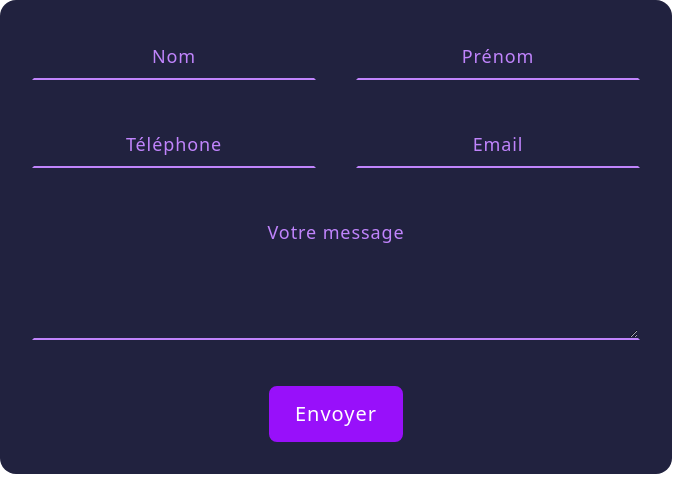
ContactForm › affiche une erreur sur chaque champ requis lors d'une soumission vide
The width and height of the screenshot is (689, 491).
Click the button "Envoyer" at (336, 414), box [269,386,403,442]
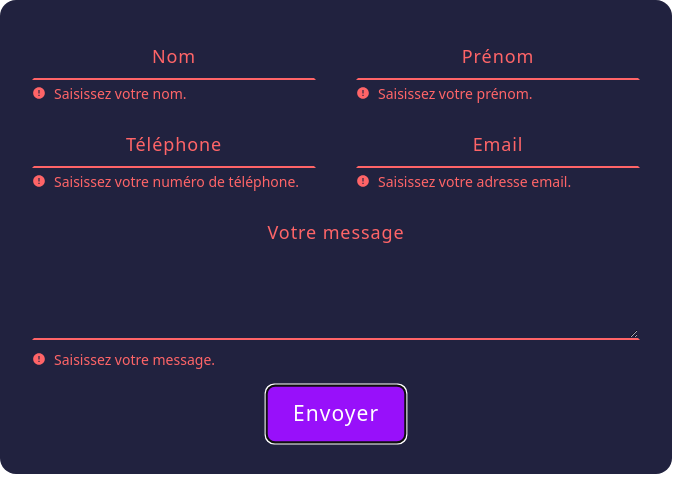
expect the text "Saisissez votre nom." is shown: met, box [54,84,186,104]
expect the text "Saisissez votre prénom." is shown: met, box [378,84,532,104]
expect the text "Saisissez votre numéro de téléphone." is shown: met, box [54,172,299,192]
